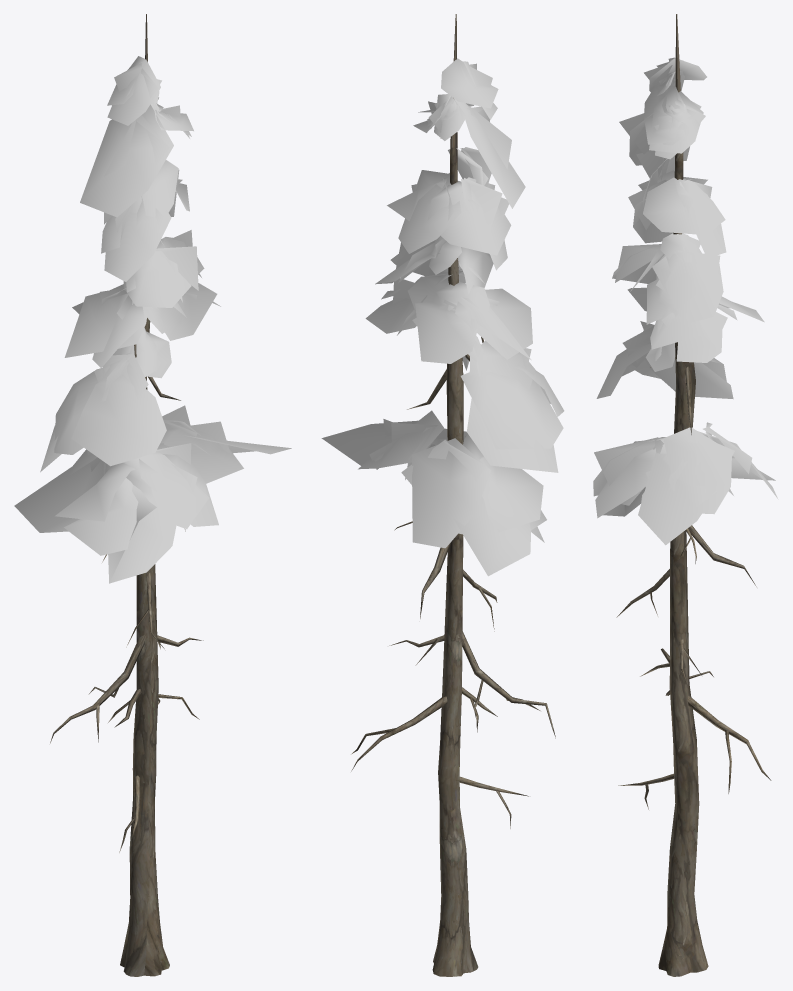
File: SM_Com_Tre_14AL.fbx
3 renders of one model, left to right at view 1: azimuth 30°, elevation 25°; view 2: azimuth 150°, elevation 25°; view 3: azimuth 270°, elevation 25°, orthographic.
Visible parts, largest first — view 1: SM_Com_Tre_14AL.mo; view 2: SM_Com_Tre_14AL.mo; view 3: SM_Com_Tre_14AL.mo.
Boxes of the visible parts, <box> form: SM_Com_Tre_14AL.mo: <box>14,14,291,976</box>; SM_Com_Tre_14AL.mo: <box>321,14,564,976</box>; SM_Com_Tre_14AL.mo: <box>593,14,778,976</box>.
Bounding box in the file's own units: 3.79 × 14.09 × 2.49.
